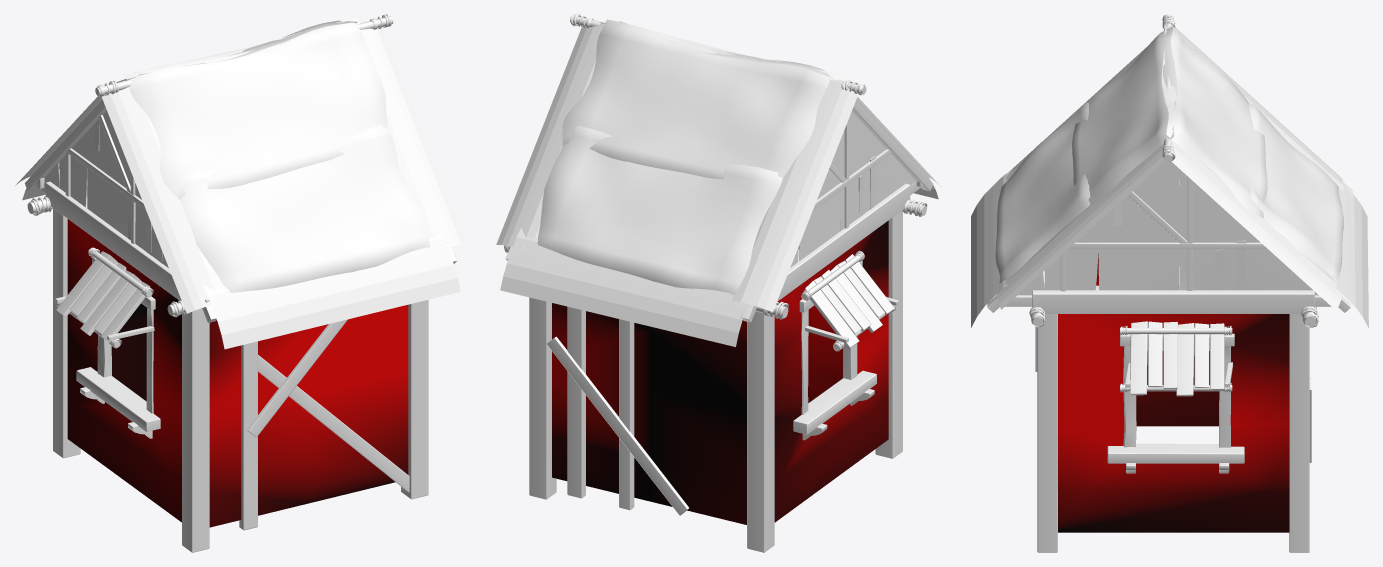
File: SM_HouseAdd_01b.fbx
3 renders of one model, left to right at view 1: azimuth 30°, elevation 25°; view 2: azimuth 150°, elevation 25°; view 3: azimuth 270°, elevation 25°, orthographic. The views are drawn at different scales.
Parts seen in each view (by area): view 1: SM_HouseAdd_01b_LOD0; view 2: SM_HouseAdd_01b_LOD0; view 3: SM_HouseAdd_01b_LOD0.
Boxes of the visible parts, bbox=[...] form: SM_HouseAdd_01b_LOD0: bbox=[15, 14, 467, 552]; SM_HouseAdd_01b_LOD0: bbox=[496, 14, 941, 552]; SM_HouseAdd_01b_LOD0: bbox=[971, 14, 1368, 552].
Bounding box in the file's own units: 354 × 387 × 449.
